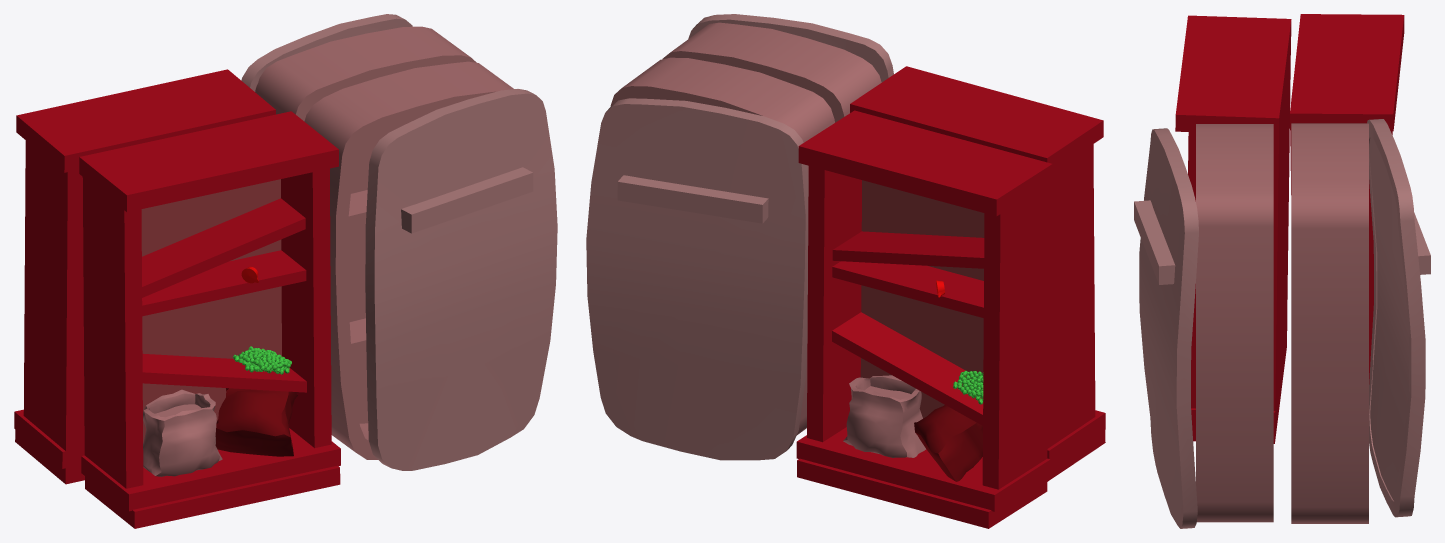
File: red_broken_cupboard.fbx
The picture shows the model from 3 angles, left to right: view 1: azimuth 30°, elevation 25°; view 2: azimuth 150°, elevation 25°; view 3: azimuth 270°, elevation 25°; orthographic projection.
Visible parts, largest first — view 1: door (×2), fridgecase (×2), pCube6 (×2), pCube1 (×2), pCube3 (×2), pCube2, pCube4 (×2), pCube7, pCube5 (×2), bag, bag1, pCube8 (+2 smaller); view 2: door (×2), pCube6 (×2), pCube2 (×2), fridgecase (×2), pCube1 (×2), pCube3, pCube4 (×2), pCube9, pCube5 (×2), bag, pCube8, pCube7 (+2 smaller); view 3: fridgecase (×2), door (×2), pCube6 (×2), pCube1, handle (×2), pCube3, pCube2.
Boxes of the visible parts, x1=… form: door (×2): x1=241, y1=14, x2=557, y2=470; fridgecase (×2): x1=255, y1=26, x2=513, y2=459; pCube6 (×2): x1=16, y1=69, x2=338, y2=212; pCube1 (×2): x1=56, y1=161, x2=281, y2=459; pCube3 (×2): x1=23, y1=140, x2=331, y2=448; pCube2: x1=88, y1=182, x2=143, y2=488; pCube4 (×2): x1=14, y1=409, x2=340, y2=511; pCube7: x1=142, y1=198, x2=305, y2=297; pCube5 (×2): x1=15, y1=429, x2=340, y2=528; bag: x1=143, y1=389, x2=222, y2=476; bag1: x1=215, y1=388, x2=297, y2=456; pCube8: x1=142, y1=250, x2=306, y2=316; door (×2): x1=586, y1=14, x2=893, y2=460; pCube6 (×2): x1=798, y1=66, x2=1103, y2=216; pCube2 (×2): x1=807, y1=144, x2=1095, y2=442; fridgecase (×2): x1=610, y1=22, x2=881, y2=434; pCube1 (×2): x1=860, y1=180, x2=1057, y2=465; pCube3: x1=982, y1=190, x2=1041, y2=489; pCube4 (×2): x1=796, y1=410, x2=1105, y2=511; pCube9: x1=832, y1=312, x2=983, y2=425; pCube5 (×2): x1=797, y1=430, x2=1105, y2=528; bag: x1=843, y1=375, x2=925, y2=457; pCube8: x1=832, y1=261, x2=983, y2=317; pCube7: x1=832, y1=231, x2=984, y2=268; fridgecase (×2): x1=1196, y1=123, x2=1368, y2=523; door (×2): x1=1139, y1=119, x2=1425, y2=528; pCube6 (×2): x1=1175, y1=14, x2=1404, y2=134; pCube1: x1=1273, y1=39, x2=1290, y2=416; handle (×2): x1=1134, y1=200, x2=1430, y2=284; pCube3: x1=1188, y1=132, x2=1195, y2=408; pCube2: x1=1369, y1=180, x2=1373, y2=384.
Bounding box in the file's own units: 94.95 × 74.11 × 57.29.
